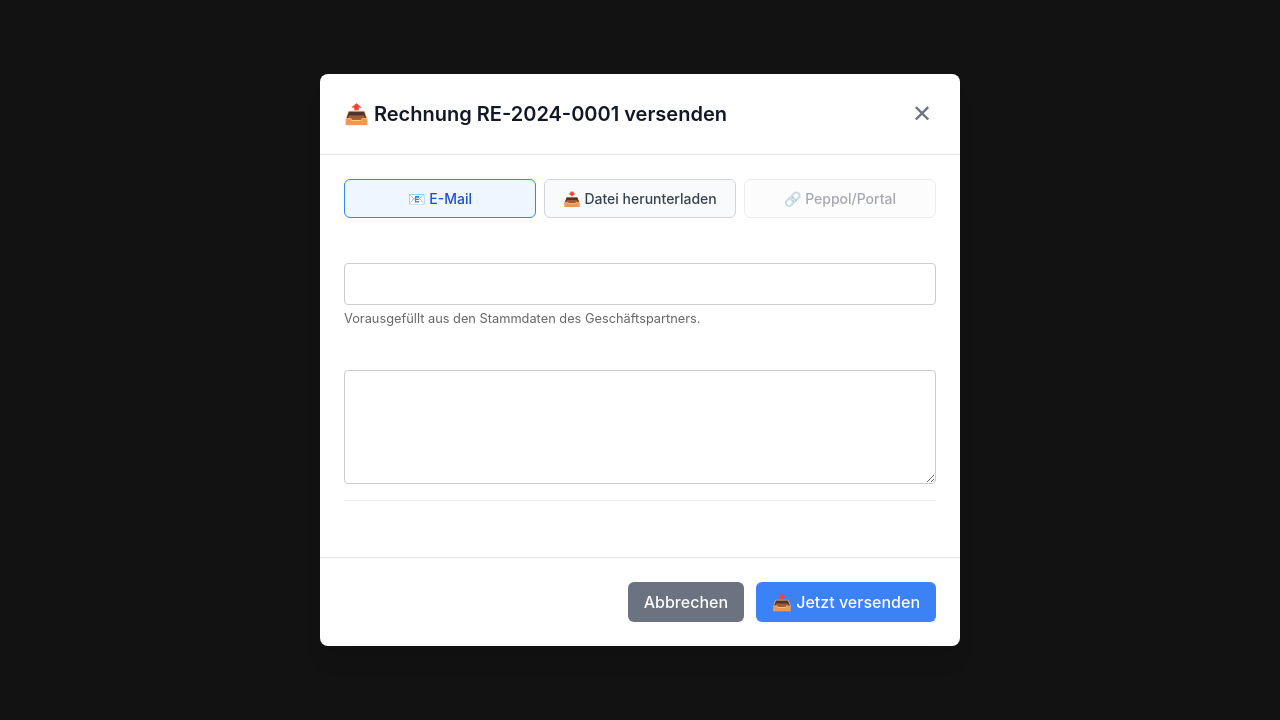
it: SendInvoiceModal › download mode — B2G › shows download error when download fails
Click the button with class "mode-btn" showing "📥 Datei herunterladen".
click(640, 198)  # box [544,179,736,218]
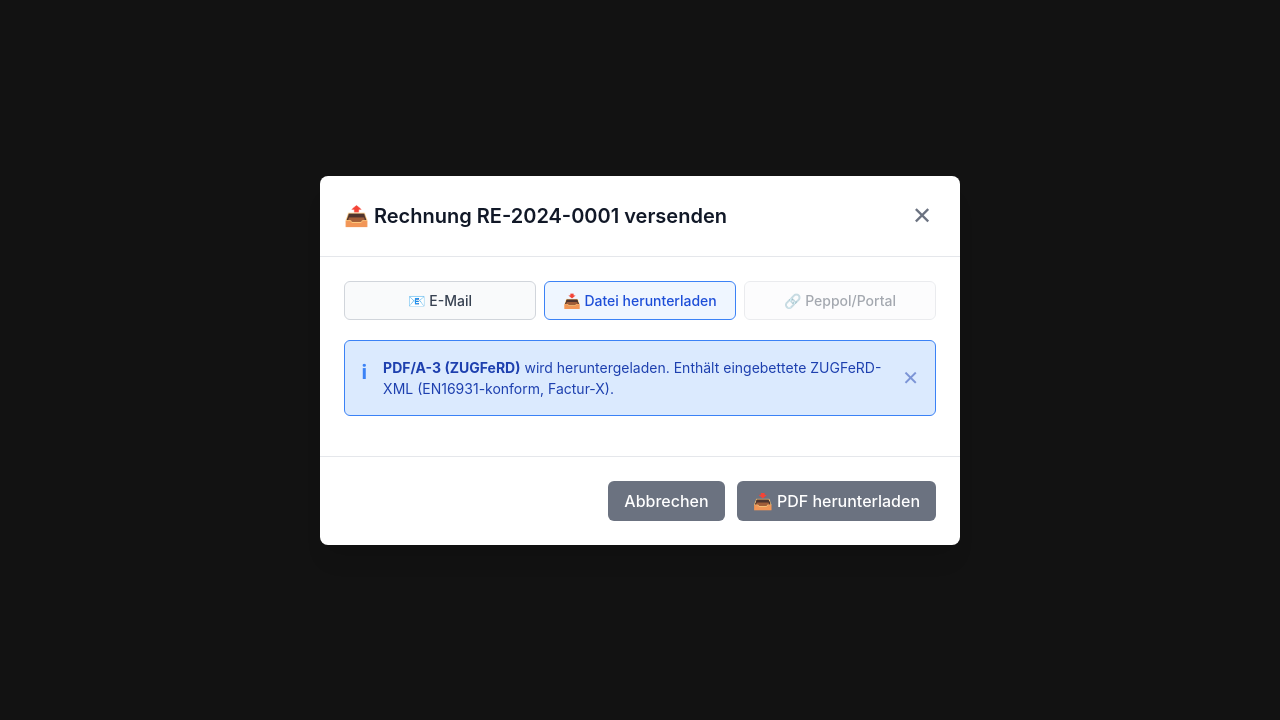
Click the button "📥 PDF herunterladen".
click(836, 500)  # box [737,480,936,520]
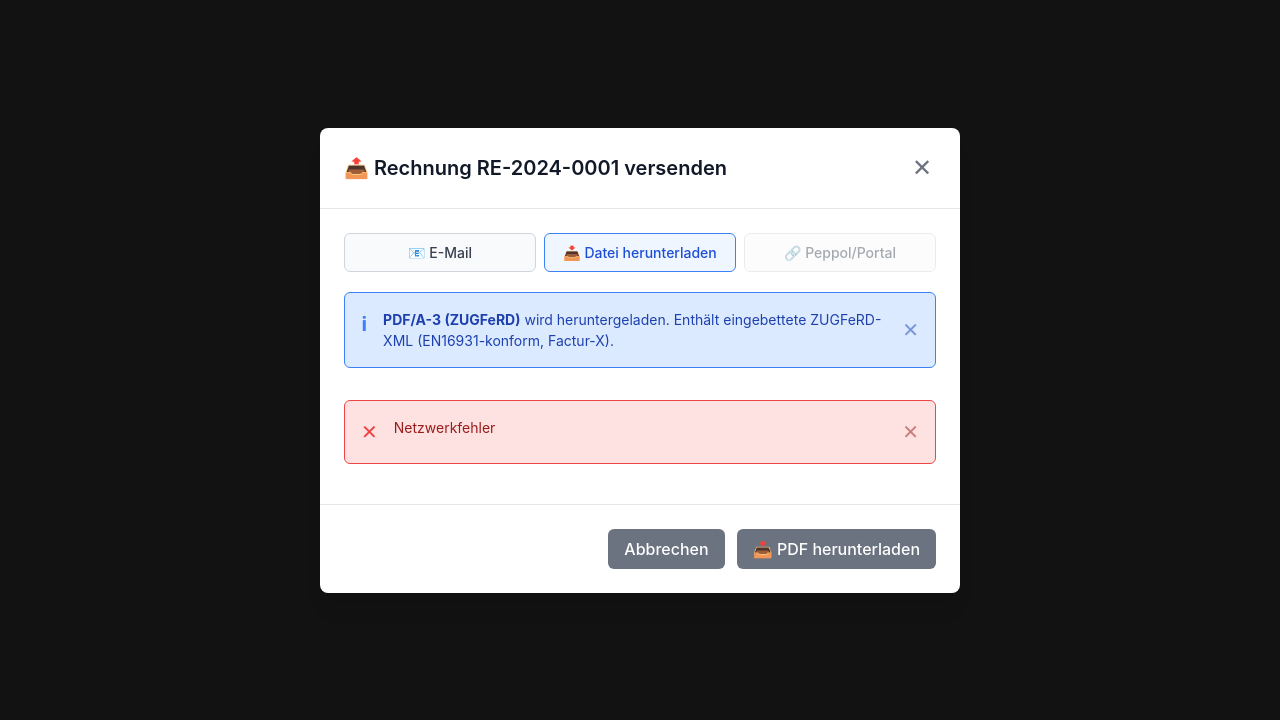
Expected: the text "Netzwerkfehler" is shown, [394,418,495,436]
